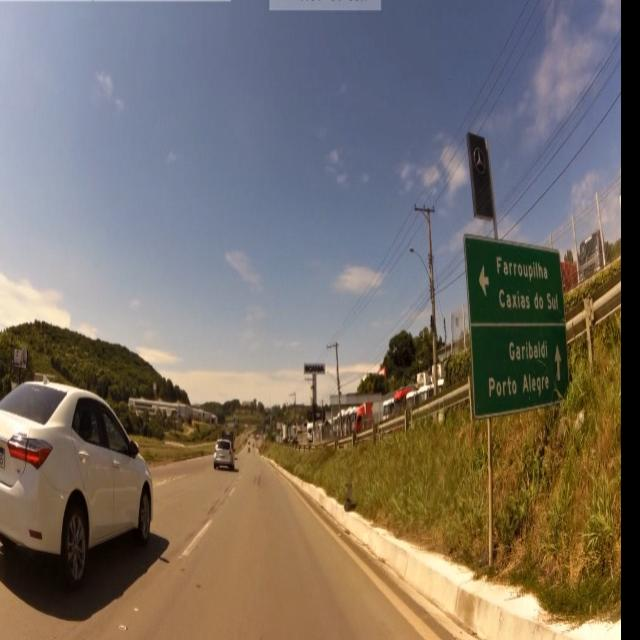I-4: (465, 237, 572, 416)
